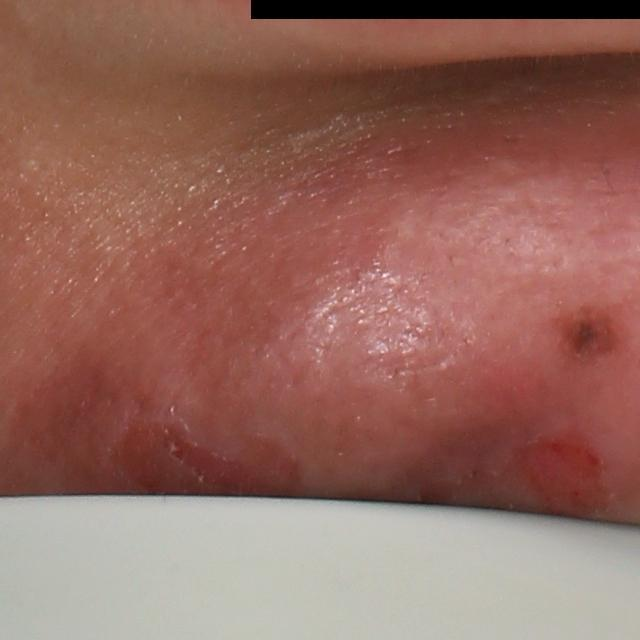nevus: (551, 305, 625, 366)
